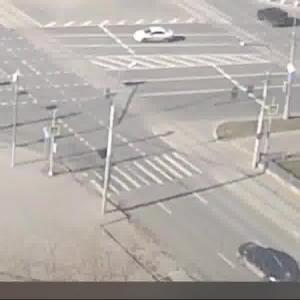car: (237, 239, 294, 286), (130, 23, 179, 47), (257, 8, 297, 34)
